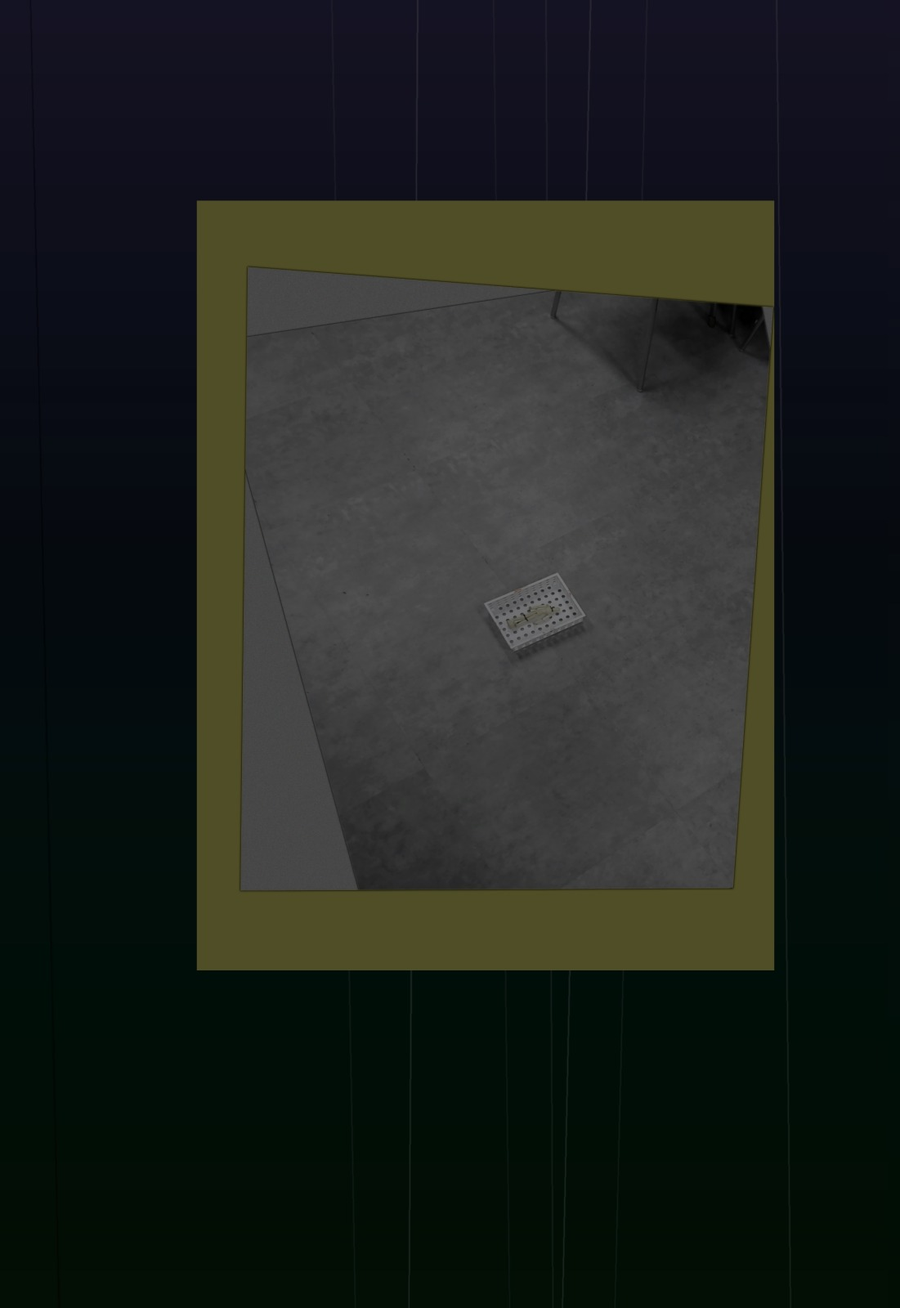basket: (482, 571, 589, 656)
mannequin: (505, 604, 562, 631)
